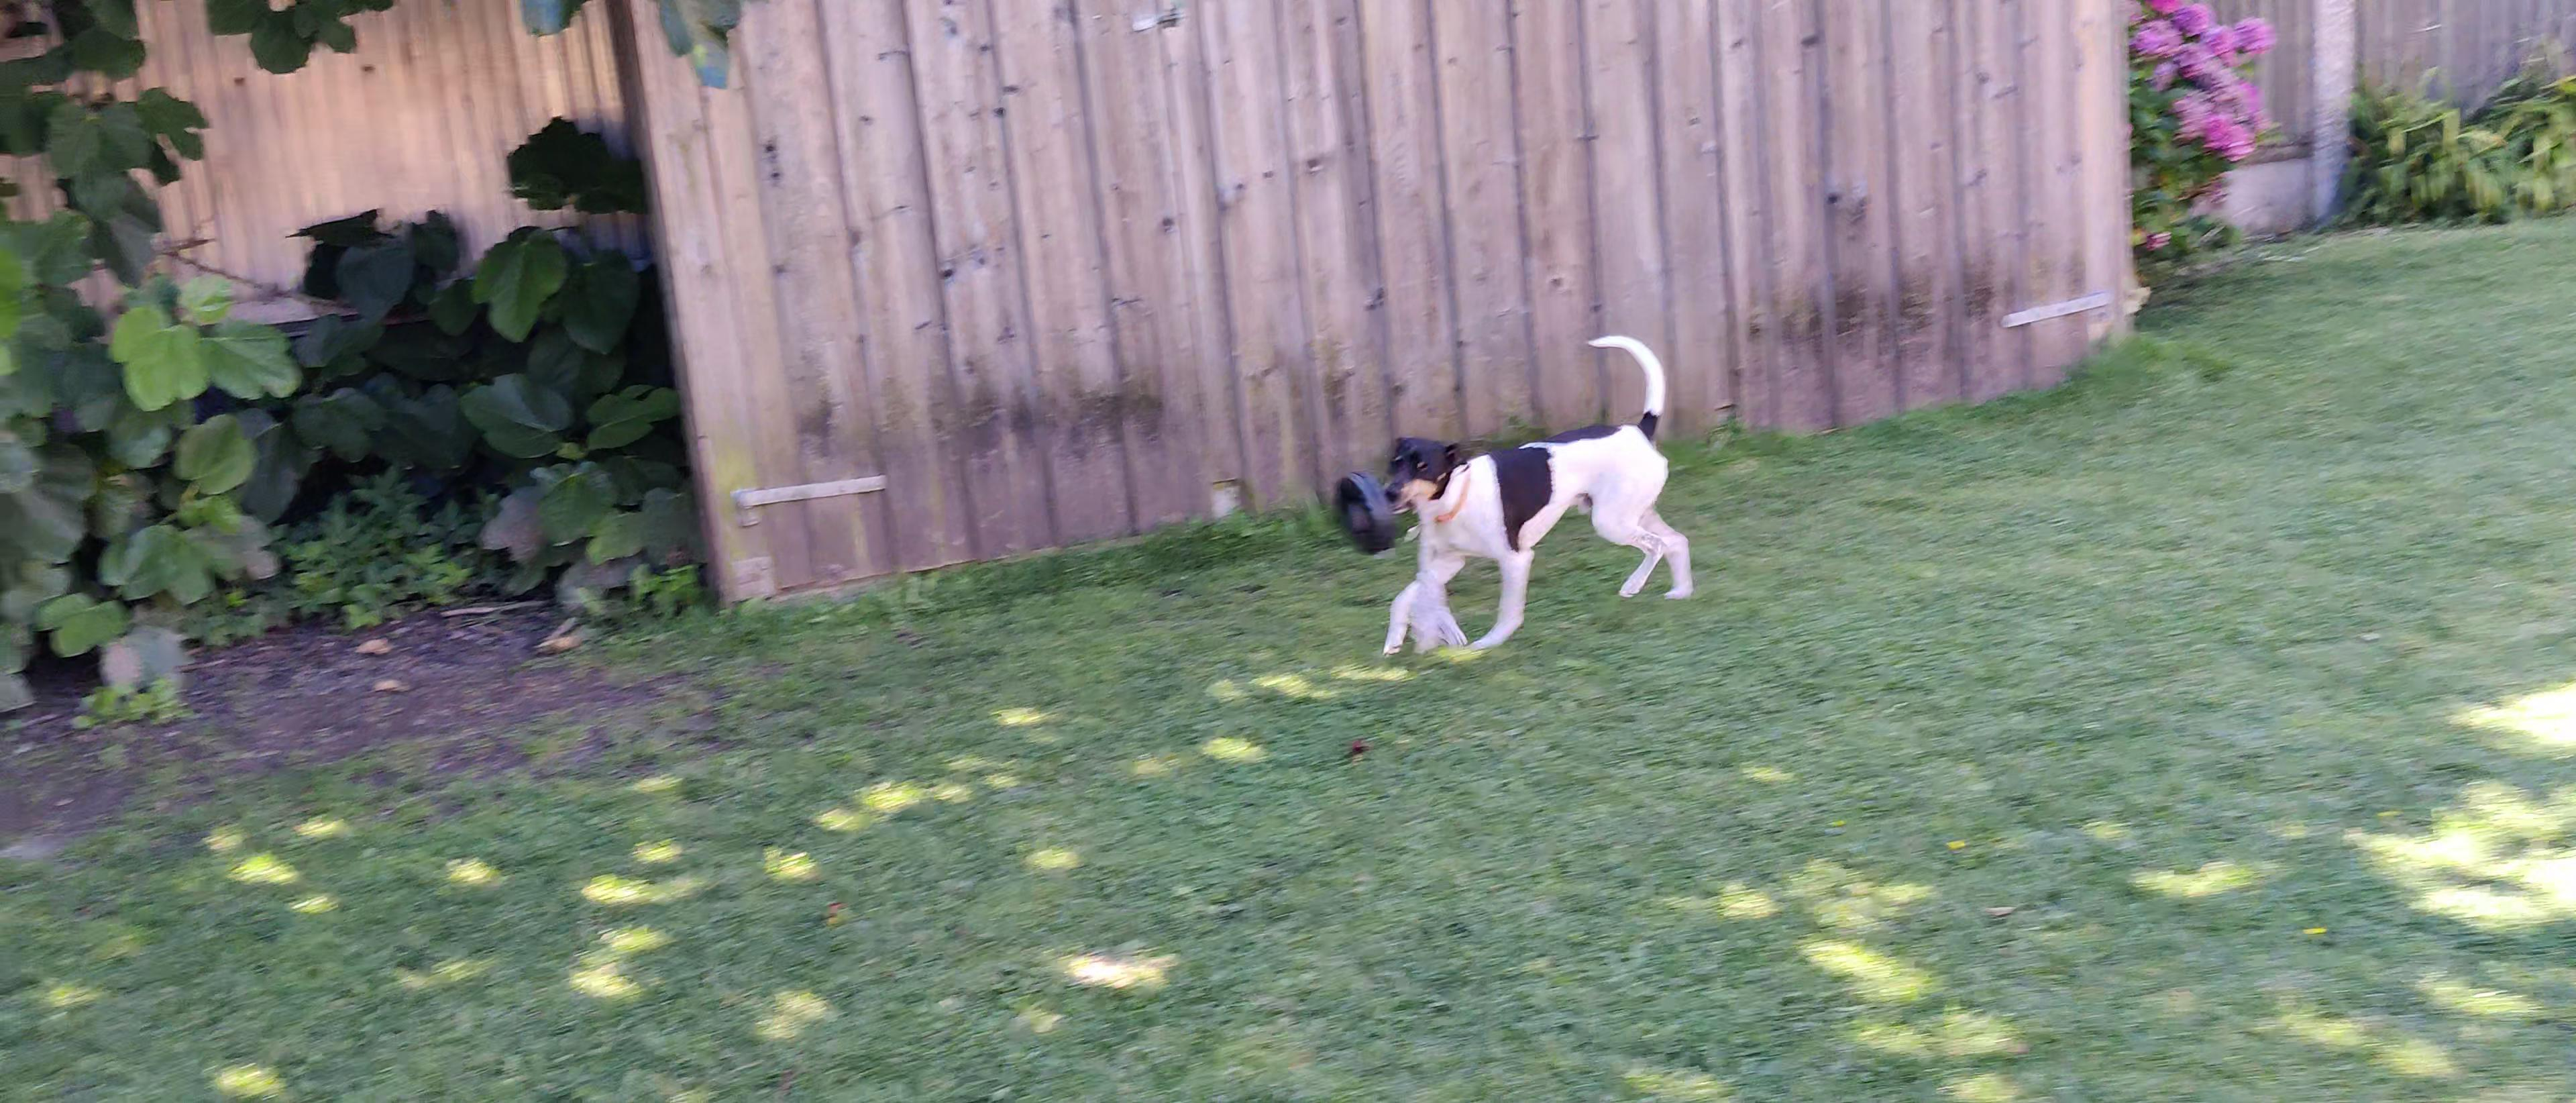Dog: (1367, 327, 1702, 661)
